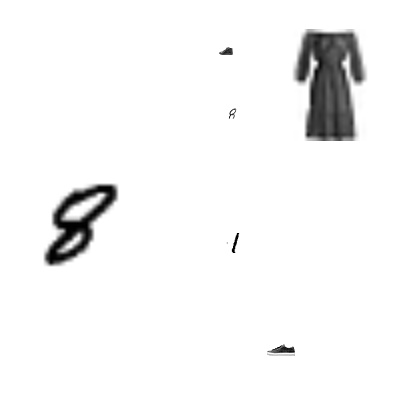1: (221, 229, 249, 257)
8: (21, 165, 133, 277), (225, 106, 239, 120)
Dress: (274, 29, 386, 141)
Sneaker: (267, 336, 295, 364), (219, 44, 233, 58)
